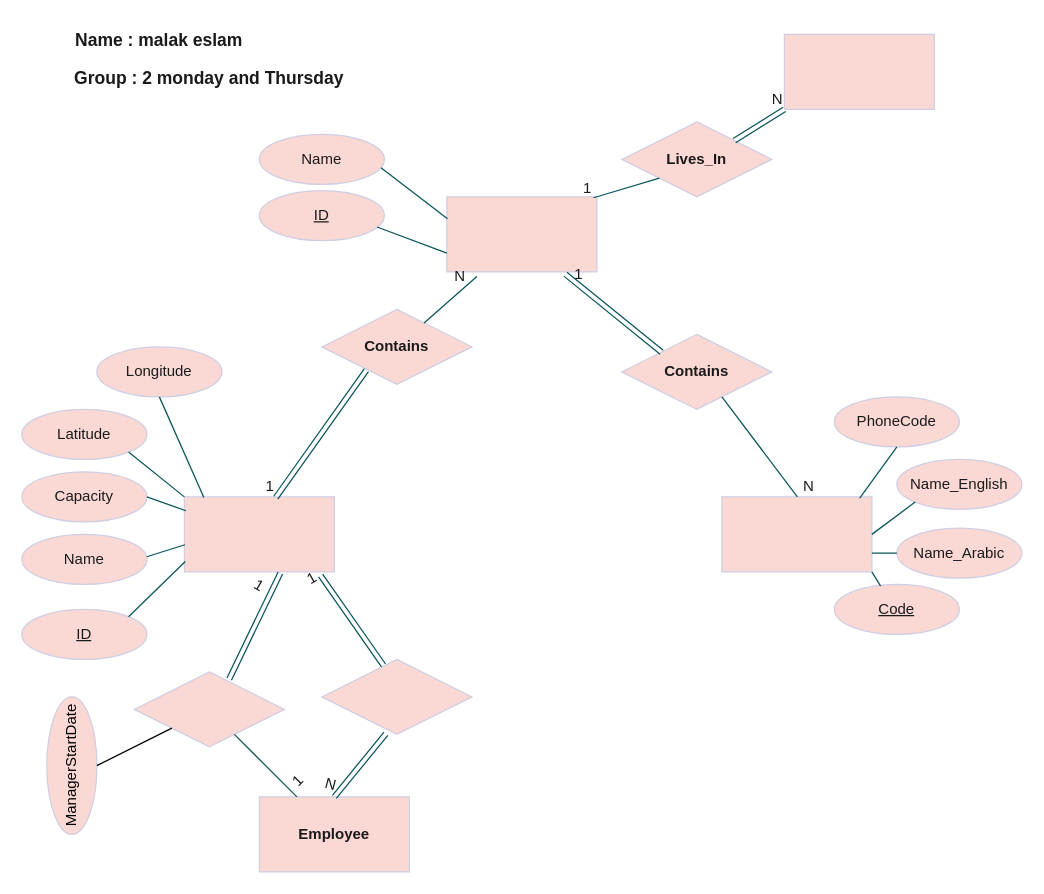
This 1044x894 diagram has some shape labels left out. Each missing label, with the box of its shape:
City: (446, 196, 597, 272)
Country: (721, 496, 872, 572)
Manages: (133, 671, 284, 747)
Member: (783, 33, 934, 109)
Warehouse: (183, 496, 334, 572)
Works At: (321, 658, 472, 734)
